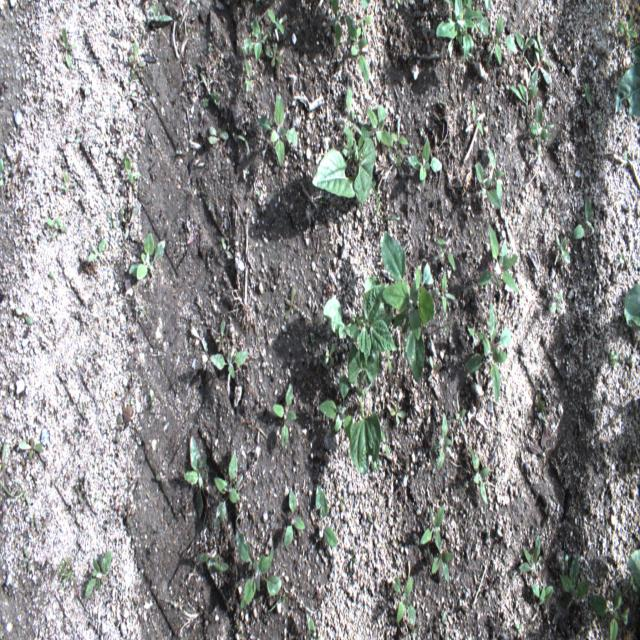crop: (312, 129, 400, 221), (323, 275, 397, 367), (347, 338, 382, 474), (615, 42, 640, 116), (624, 282, 640, 327), (626, 549, 640, 591)
weed: (380, 230, 435, 383), (465, 303, 511, 402), (236, 529, 284, 609), (256, 92, 298, 166), (475, 225, 518, 295), (436, 0, 482, 64), (318, 370, 353, 440), (214, 449, 244, 528), (475, 14, 517, 69), (589, 585, 630, 639), (183, 434, 206, 521), (558, 550, 590, 610), (310, 484, 338, 549), (128, 231, 165, 280), (345, 14, 369, 86), (272, 383, 296, 451), (335, 86, 363, 138), (361, 104, 394, 147), (84, 550, 113, 598), (239, 15, 268, 63), (510, 66, 540, 112), (408, 140, 442, 180), (530, 100, 554, 154), (475, 161, 502, 209), (532, 29, 555, 84), (420, 502, 444, 554), (283, 490, 305, 546), (392, 575, 416, 626), (432, 412, 453, 470), (430, 271, 456, 316), (210, 349, 248, 379), (487, 146, 504, 203), (572, 198, 595, 240), (432, 539, 453, 584), (514, 29, 535, 73), (518, 536, 541, 575), (324, 0, 342, 48), (1, 478, 30, 507), (199, 71, 221, 109), (434, 236, 456, 274), (472, 454, 488, 506), (196, 548, 229, 573), (464, 100, 484, 138), (118, 205, 139, 241), (267, 7, 287, 41), (530, 580, 554, 608), (129, 41, 146, 80), (147, 1, 173, 26), (45, 216, 68, 242), (616, 14, 638, 41), (554, 229, 570, 265), (61, 26, 74, 70), (283, 286, 300, 319), (18, 437, 42, 460), (390, 117, 409, 146), (57, 170, 78, 194), (58, 557, 74, 588), (190, 326, 208, 351), (622, 574, 638, 602), (267, 594, 289, 614), (88, 239, 107, 262), (265, 43, 284, 66), (305, 612, 320, 640), (244, 59, 256, 92), (456, 393, 466, 432), (358, 15, 373, 41), (208, 126, 229, 144), (366, 511, 381, 536), (215, 320, 226, 354), (322, 343, 337, 367), (388, 404, 406, 423), (462, 432, 476, 456), (422, 26, 434, 54), (550, 288, 562, 313), (15, 308, 33, 324), (276, 46, 285, 78), (582, 83, 594, 107), (381, 347, 392, 373), (236, 134, 250, 154), (0, 443, 9, 473), (125, 156, 134, 186), (222, 237, 234, 259), (22, 546, 31, 573), (381, 430, 389, 460), (428, 356, 438, 380), (468, 328, 487, 340), (335, 491, 345, 513), (106, 210, 117, 230), (347, 546, 356, 570), (116, 412, 122, 443), (149, 388, 156, 414), (439, 610, 446, 636), (609, 350, 618, 366), (0, 156, 4, 188), (617, 251, 625, 264), (568, 546, 576, 559), (561, 553, 568, 566), (514, 622, 522, 633), (361, 0, 370, 9), (374, 460, 381, 471), (484, 0, 492, 9)
